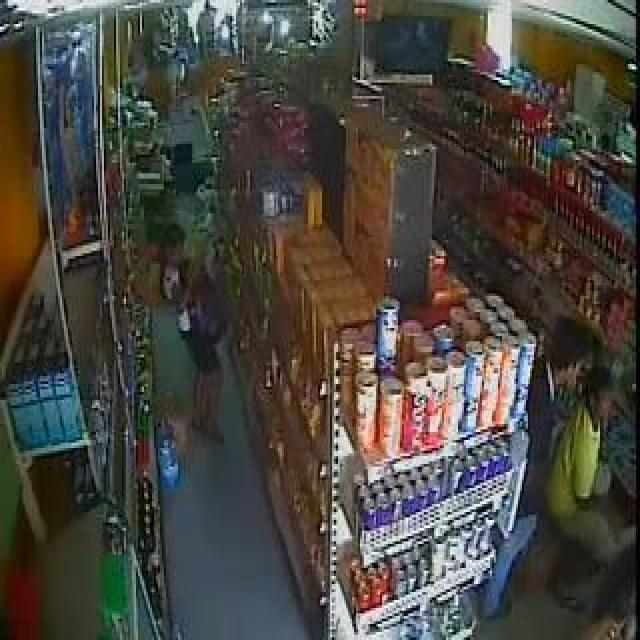Shoplifting: (116, 199, 270, 478)
